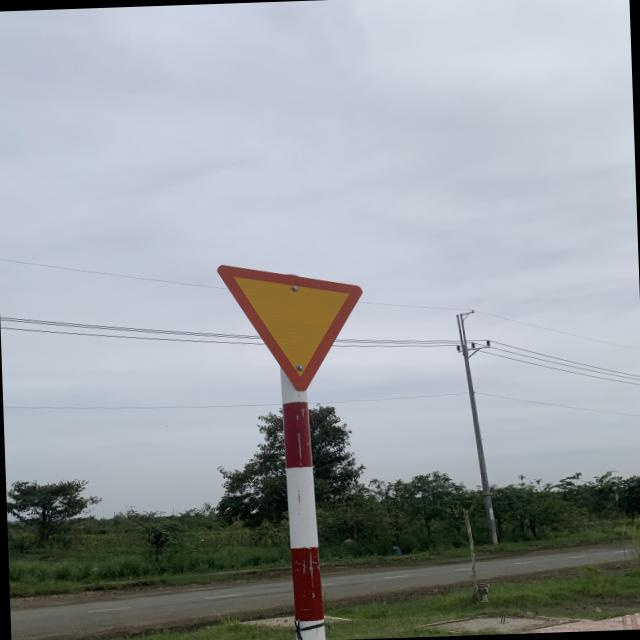Gioi_Han_Toc_Do_25: (215, 260, 367, 396)
